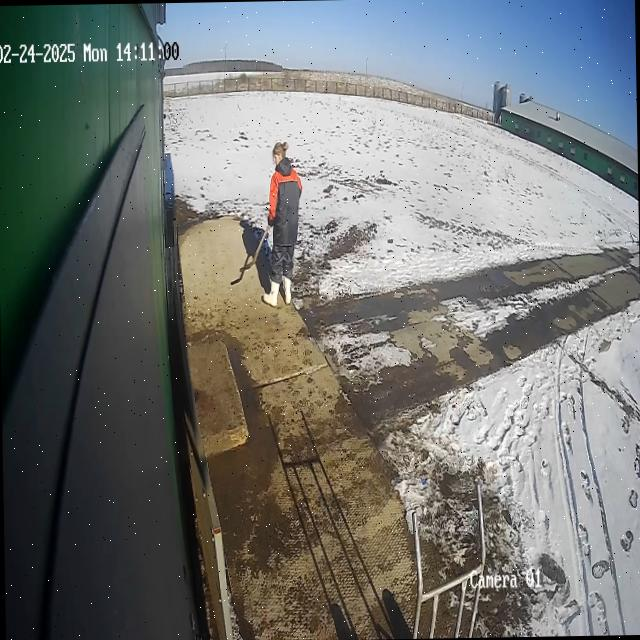Red uniform: (258, 138, 305, 309)
